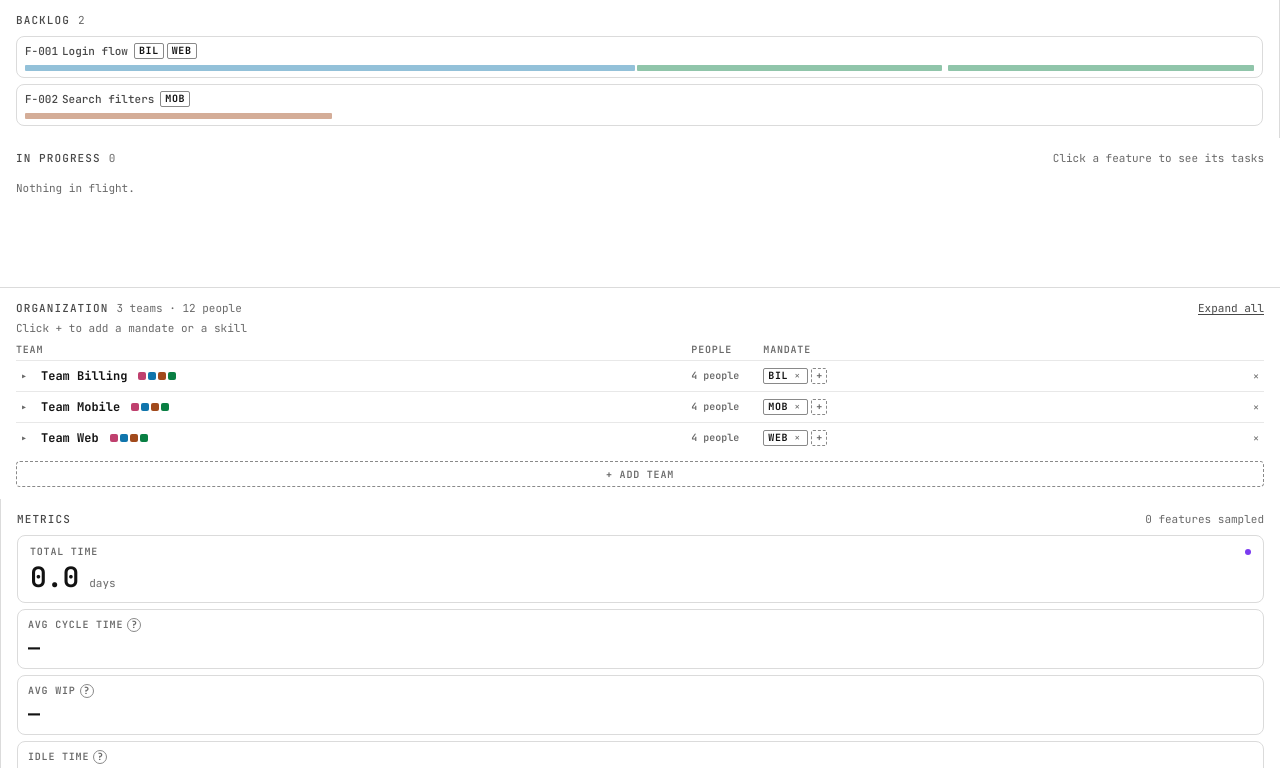
it: feat-030 B8 a C7: přidání a odebrání týmu › Remove odebere Team Web i s lidmi → „2 teams · 8 people“, „No team has a mandate for WEB“
Step 1. Click the button named "Remove Team Web" → (1256, 438), box [1248,430,1264,446]
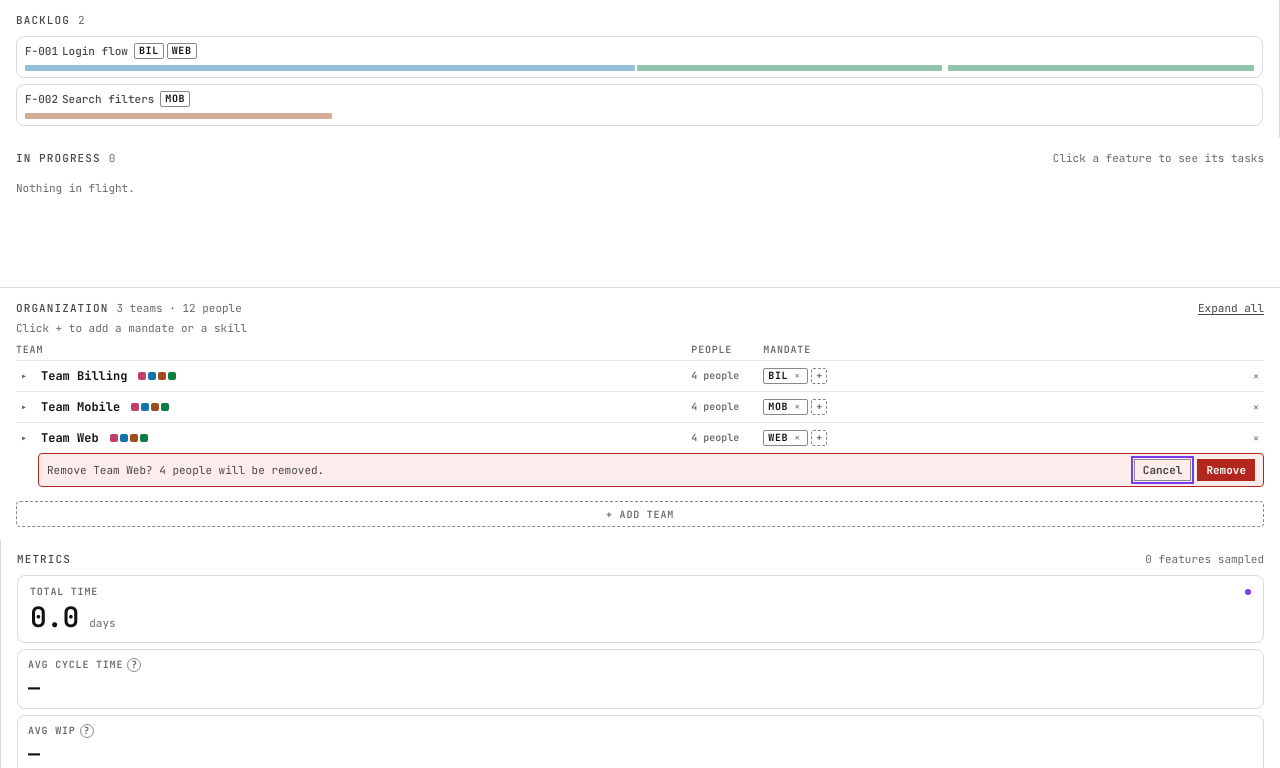
Step 2. Click the button "Remove" → (1226, 470), box [1197,459,1255,481]
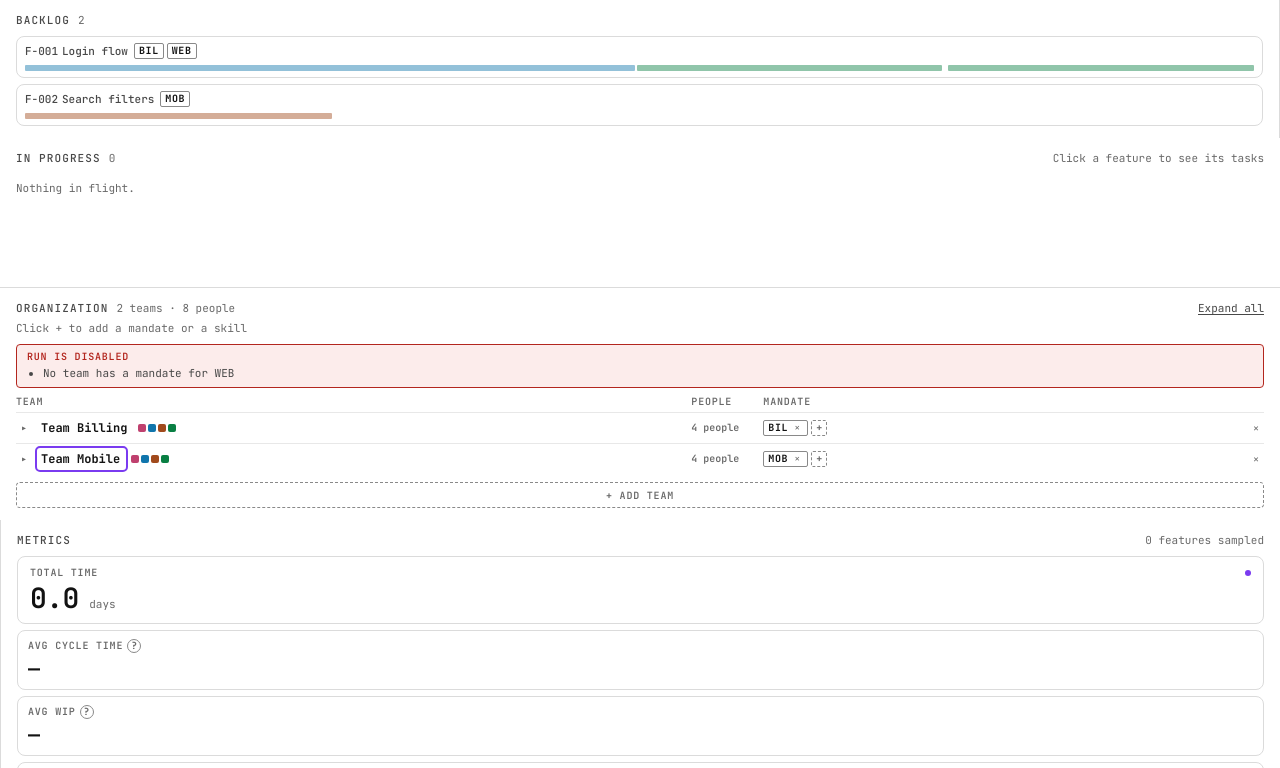
Now the text "2 teams · 8 people" is shown, box [116,300,235,316]
